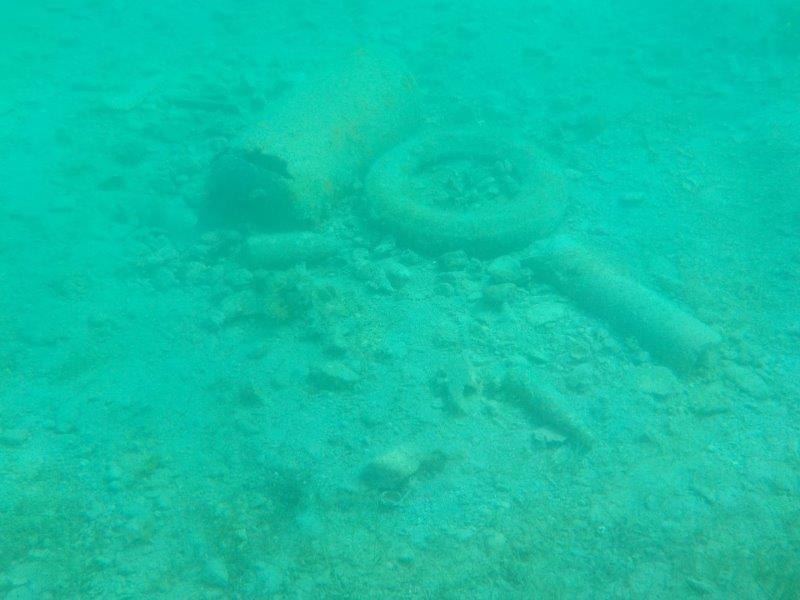bottle: (499, 361, 606, 452), (235, 224, 361, 281)
tire: (360, 121, 578, 262)
